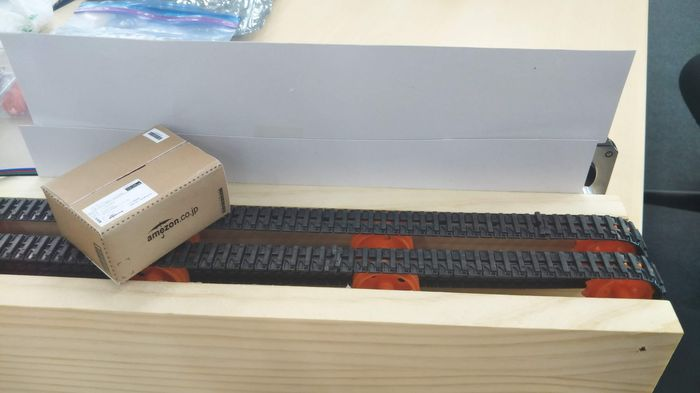box1: (39, 122, 230, 286)
